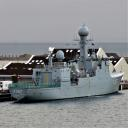Fragata: (8, 25, 127, 103)
